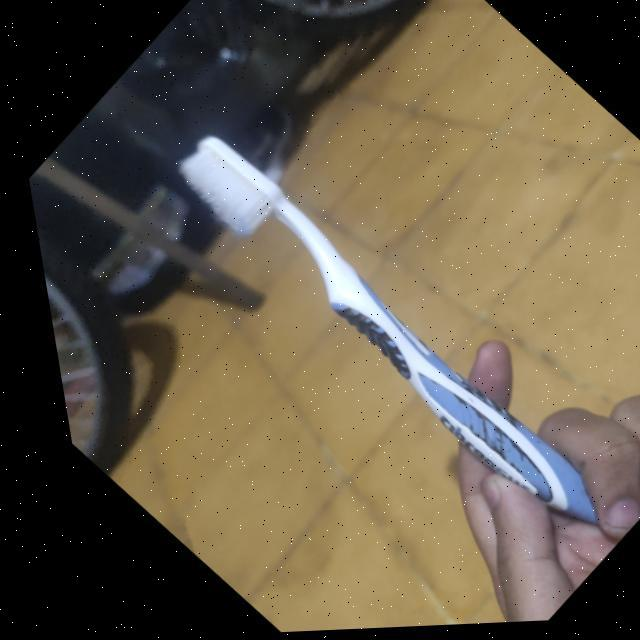toothbrush: (102, 84, 630, 594)
